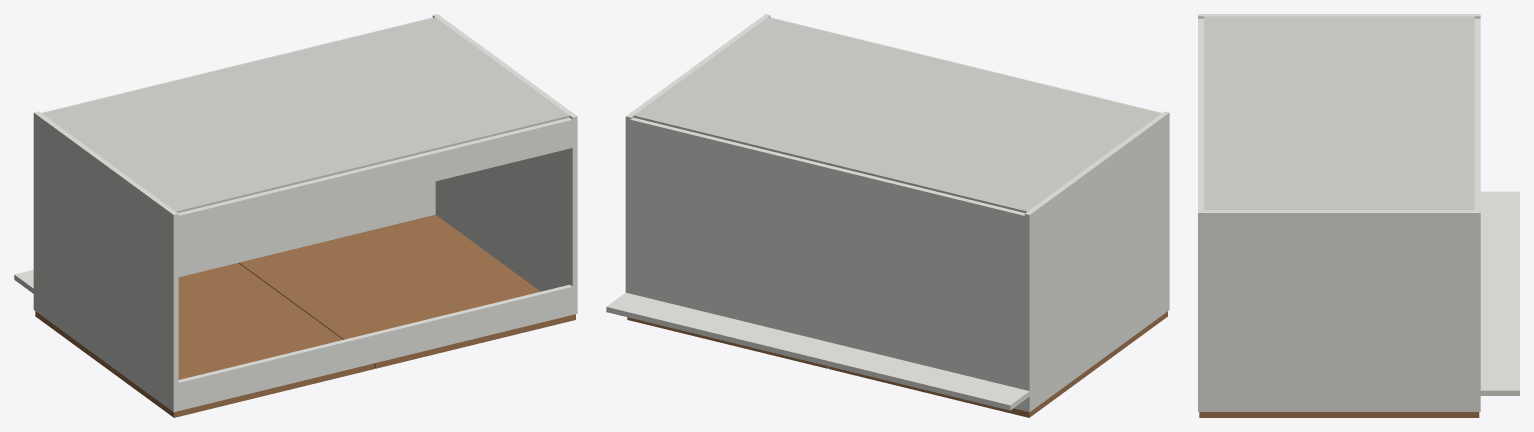
Rendered from M03_sink_cabinet.obj.
The picture shows the model from 3 angles, left to right: view 1: azimuth 30°, elevation 25°; view 2: azimuth 150°, elevation 25°; view 3: azimuth 270°, elevation 25°; orthographic projection.
Visible parts, largest first — view 1: M03_sink_cabinet_Fundo, M03_sink_cabinet_Lateral_Esquerda, M03_sink_cabinet_Porta_2, M03_sink_cabinet_Lateral_Direita, M03_sink_cabinet_Porta_1, M03_sink_cabinet_Travessa_Traseira, M03_sink_cabinet_Travessa_Frontal, M03_sink_cabinet_Base; view 2: M03_sink_cabinet_Base, M03_sink_cabinet_Fundo, M03_sink_cabinet_Lateral_Esquerda, M03_sink_cabinet_Rodape, M03_sink_cabinet_Lateral_Direita, M03_sink_cabinet_Porta_1, M03_sink_cabinet_Porta_2, M03_sink_cabinet_Travessa_Traseira; view 3: M03_sink_cabinet_Lateral_Direita, M03_sink_cabinet_Fundo, M03_sink_cabinet_Rodape, M03_sink_cabinet_Porta_2, M03_sink_cabinet_Base, M03_sink_cabinet_Travessa_Traseira, M03_sink_cabinet_Lateral_Esquerda.
Boxes of the visible parts, <box> form: M03_sink_cabinet_Fundo: <box>42,17,569,212</box>; M03_sink_cabinet_Lateral_Esquerda: <box>33,111,178,412</box>; M03_sink_cabinet_Porta_2: <box>238,214,575,368</box>; M03_sink_cabinet_Lateral_Direita: <box>432,14,577,314</box>; M03_sink_cabinet_Porta_1: <box>35,263,374,417</box>; M03_sink_cabinet_Travessa_Traseira: <box>178,117,572,243</box>; M03_sink_cabinet_Travessa_Frontal: <box>178,284,572,410</box>; M03_sink_cabinet_Base: <box>41,17,435,276</box>; M03_sink_cabinet_Base: <box>630,117,1024,410</box>; M03_sink_cabinet_Fundo: <box>633,17,1161,213</box>; M03_sink_cabinet_Lateral_Esquerda: <box>1024,111,1169,412</box>; M03_sink_cabinet_Rodape: <box>606,292,1029,410</box>; M03_sink_cabinet_Lateral_Direita: <box>625,14,770,293</box>; M03_sink_cabinet_Porta_1: <box>828,311,1167,417</box>; M03_sink_cabinet_Porta_2: <box>627,317,828,368</box>; M03_sink_cabinet_Travessa_Traseira: <box>770,17,1161,113</box>; M03_sink_cabinet_Lateral_Direita: <box>1198,210,1480,411</box>; M03_sink_cabinet_Fundo: <box>1204,16,1474,210</box>; M03_sink_cabinet_Rodape: <box>1480,191,1519,395</box>; M03_sink_cabinet_Porta_2: <box>1199,412,1479,417</box>; M03_sink_cabinet_Base: <box>1474,18,1480,210</box>; M03_sink_cabinet_Travessa_Traseira: <box>1198,18,1203,210</box>; M03_sink_cabinet_Lateral_Esquerda: <box>1198,14,1480,18</box>.
Size of the model in its own units: 1200 by 598 by 820.
